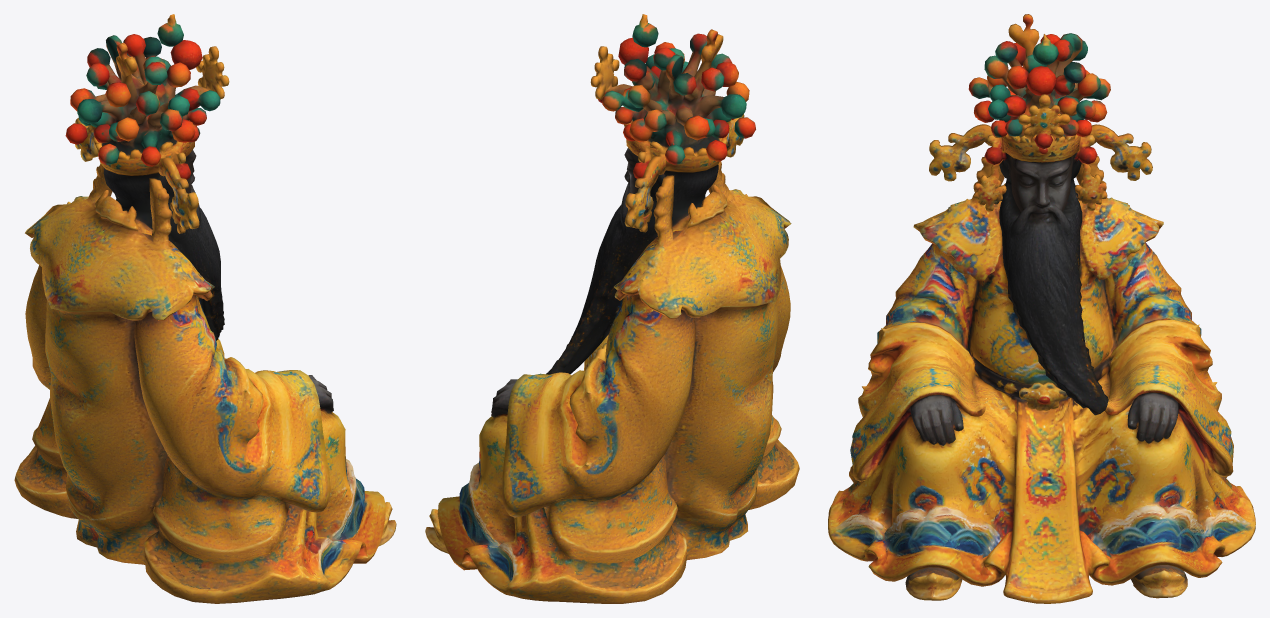
File: lord.glb
3 renders of one model, left to right at view 1: azimuth 30°, elevation 25°; view 2: azimuth 150°, elevation 25°; view 3: azimuth 270°, elevation 25°, orthographic. The views are drawn at different scales.
Visible parts, largest first — view 1: tripo_node_0a650550-c535-41c5-891c-dab5bb53e441; view 2: tripo_node_0a650550-c535-41c5-891c-dab5bb53e441; view 3: tripo_node_0a650550-c535-41c5-891c-dab5bb53e441.
Part boxes in pixels (x1,y1,x2,y2): tripo_node_0a650550-c535-41c5-891c-dab5bb53e441: (14, 14, 396, 603); tripo_node_0a650550-c535-41c5-891c-dab5bb53e441: (425, 14, 799, 603); tripo_node_0a650550-c535-41c5-891c-dab5bb53e441: (828, 14, 1255, 603).
Size of the model in its own units: 0.5923 by 0.9995 by 0.7827.
1 material, 1 textured.
